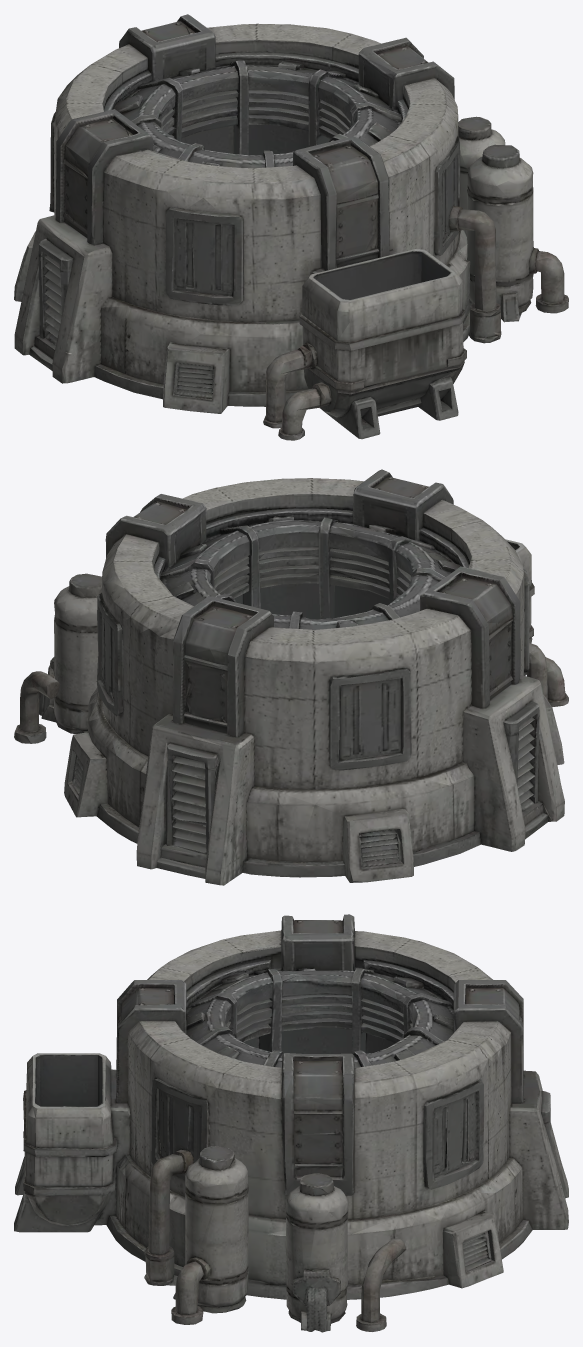
Rendered from sink.core.l1.glb.
3 views of the same model, one above another, from view 1: azimuth 30°, elevation 25°; view 2: azimuth 150°, elevation 25°; view 3: azimuth 270°, elevation 25° (orthographic). The views are drawn at different scales.
Visible parts, largest first — view 1: body; view 2: body; view 3: body.
Part boxes in pixels (x1,y1,x2,y2): body: (14,14,568,440); body: (14,469,568,885); body: (14,914,568,1332).
Size of the model in its own units: 2.32 by 1.03 by 2.4.
Materials: 1 (1 with a texture image).
